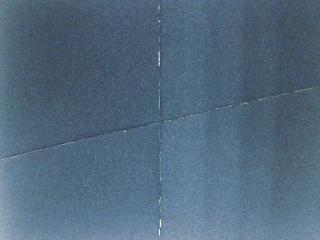crack: (0, 80, 319, 163), (148, 1, 173, 240)
